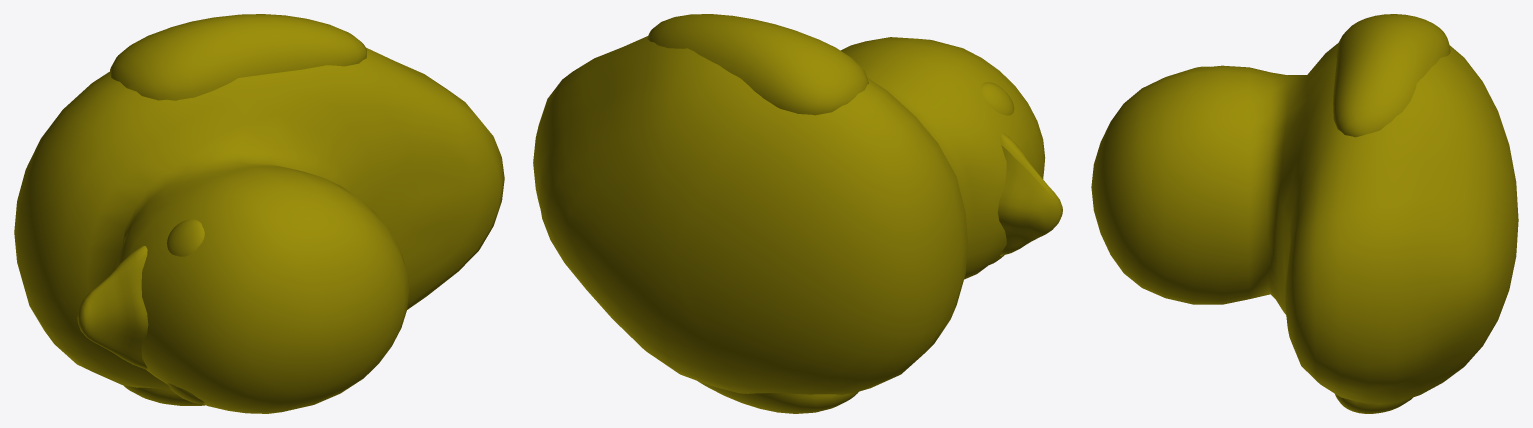
Rendered from rubber_duck.obj.
3 views of the same model, side by side, from view 1: azimuth 30°, elevation 25°; view 2: azimuth 150°, elevation 25°; view 3: azimuth 270°, elevation 25° (orthographic). The views are drawn at different scales.
Visible parts, largest first — view 1: Duck_Duck; view 2: Duck_Duck; view 3: Duck_Duck.
Part boxes in pixels (x1,y1,x2,y2): Duck_Duck: (14,14,504,413); Duck_Duck: (533,14,1062,413); Duck_Duck: (1091,14,1518,413).
Bounding box in the file's own units: 0.4423 × 0.34 × 0.3711.
